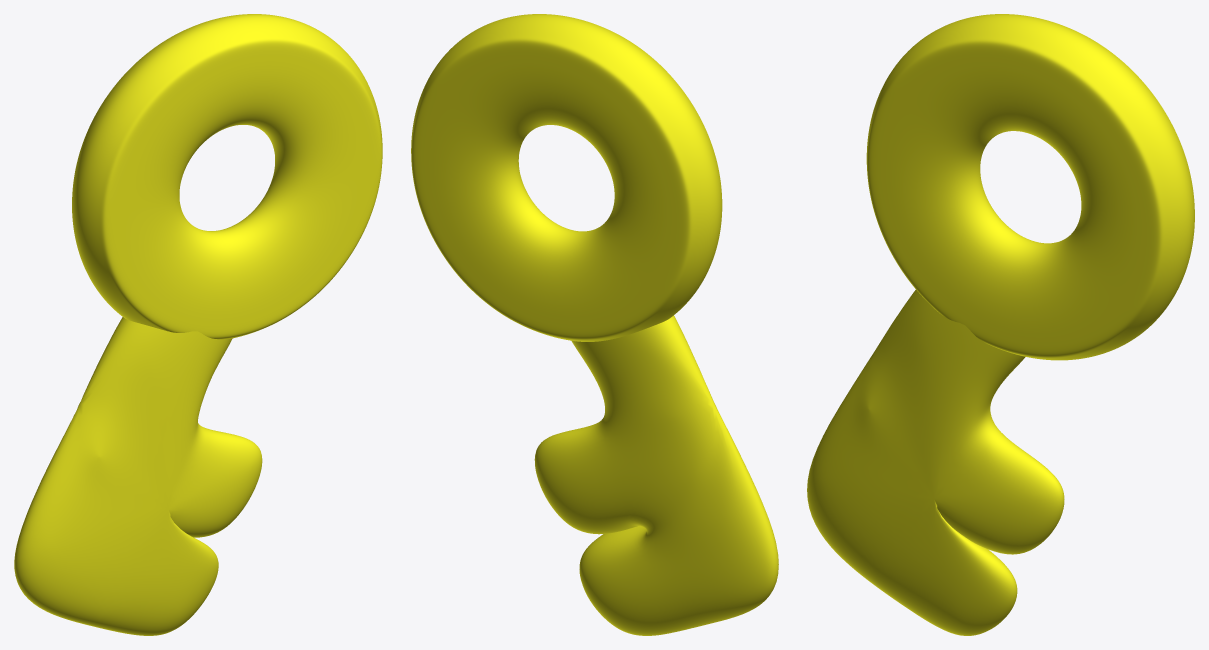
File: ChromaKey.fbx
3 views of the same model, side by side, from view 1: azimuth 30°, elevation 25°; view 2: azimuth 150°, elevation 25°; view 3: azimuth 330°, elevation 25° (orthographic). The views are drawn at different scales.
Visible parts, largest first — view 1: Circle; view 2: Circle; view 3: Circle.
Part boxes in pixels (x1=…): Circle: x1=14, y1=14, x2=382, y2=635; Circle: x1=411, y1=14, x2=778, y2=635; Circle: x1=807, y1=14, x2=1194, y2=635.
Bounding box in the file's own units: 160 × 252 × 25.24.
